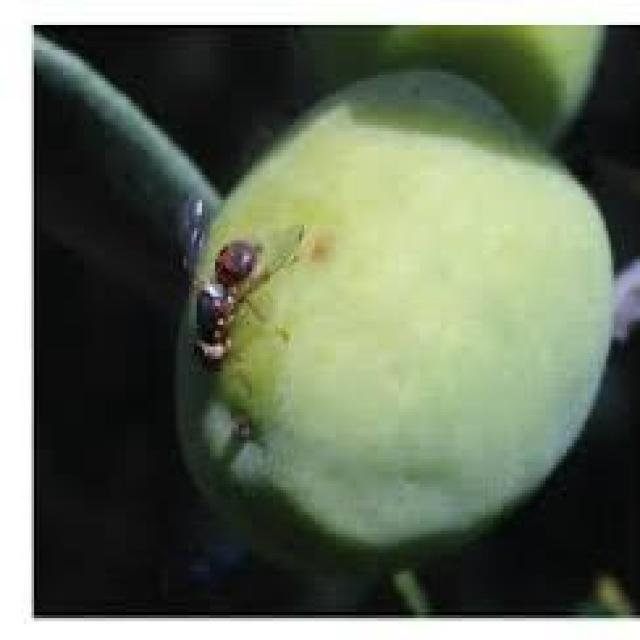Olive Fruit Fly: (181, 72, 611, 562)
